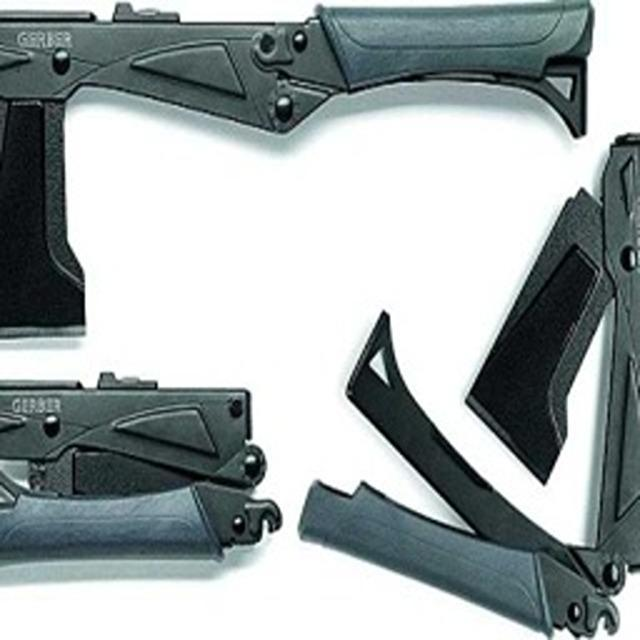ax: (0, 0, 602, 344), (293, 129, 638, 640)
